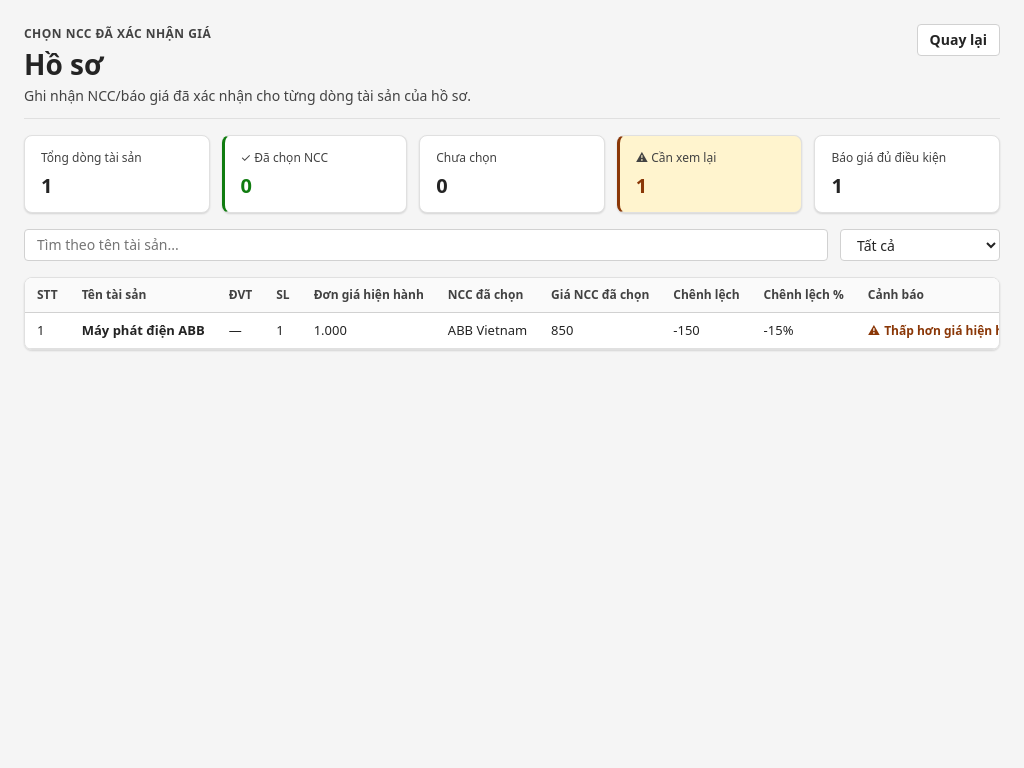
Scenario: NccSelectionPage › supports keyboard row activation and Vietnamese history labels
The image size is (1024, 768).
Press Enter in the row named "Xem chi tiết: Máy phát điện ABB", box [25,312,1023,348]
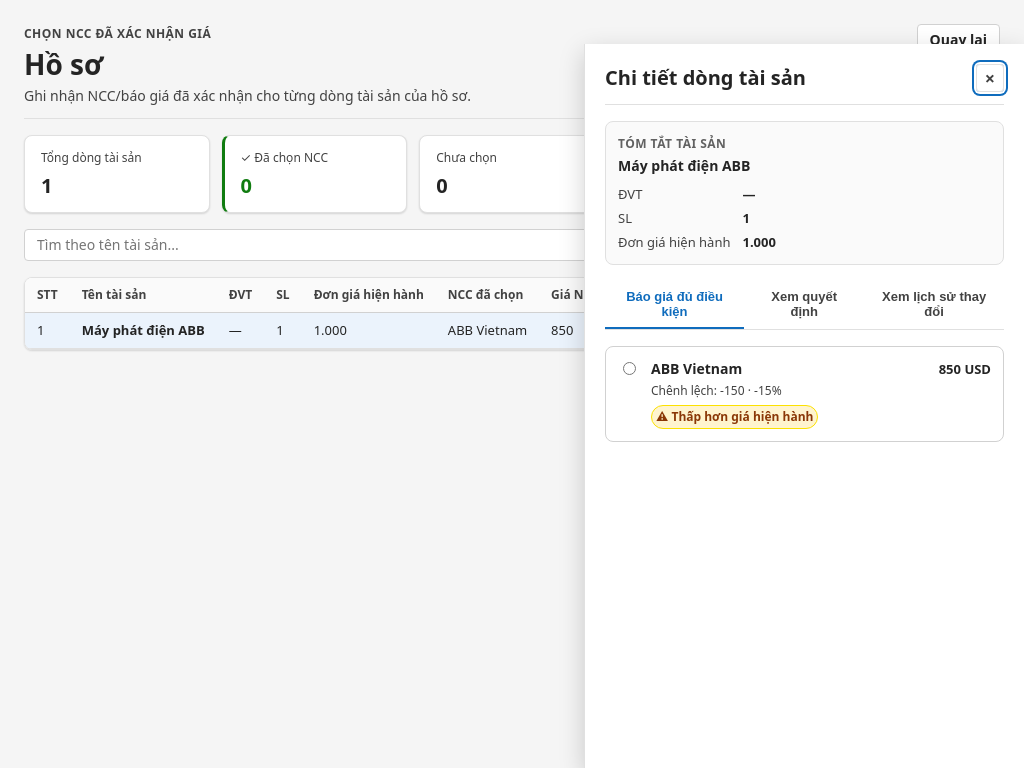
Check: the dialog is shown, box [584,44,1023,767]
Click the tab "Xem lịch sử thay đổi": (934, 305) [864,281,1004,329]
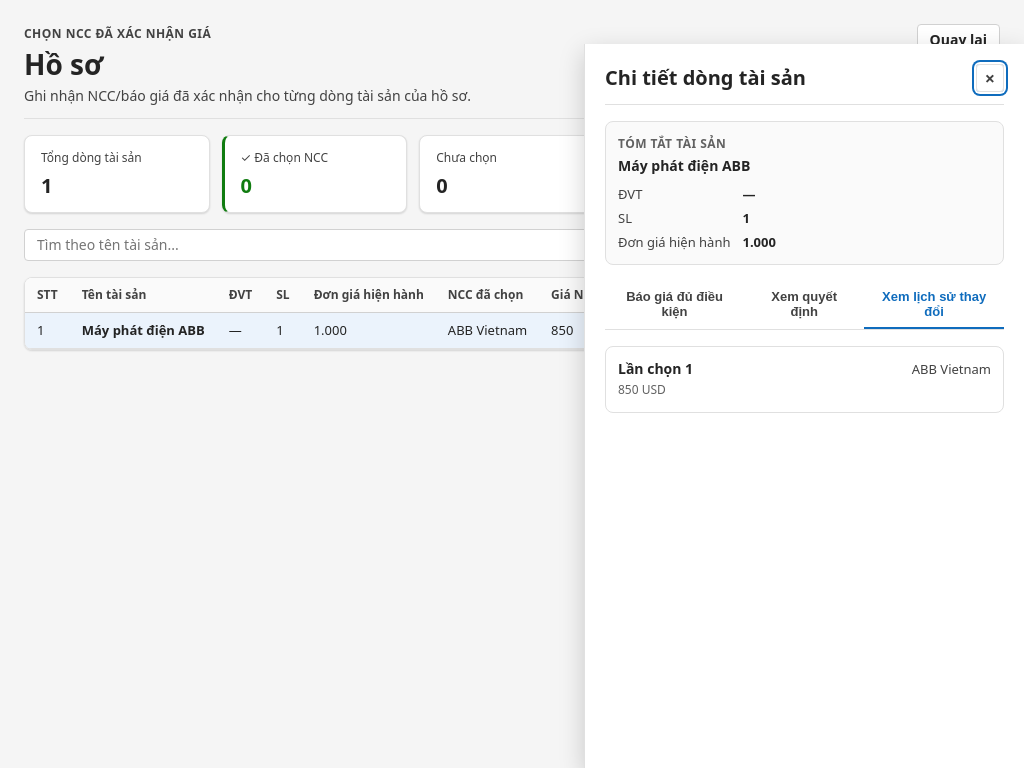
Check: the text "Lần chọn 1" is shown, box [618,359,693,379]
